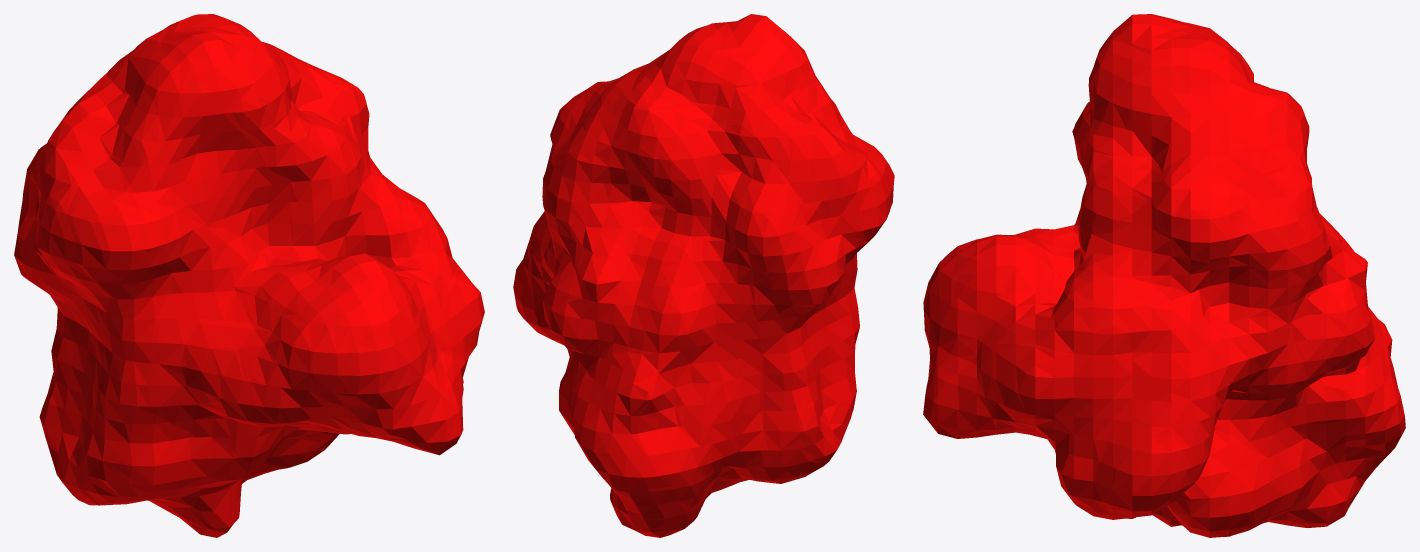
File: glpA_coarse.dae
3 renders of one model, left to right at view 1: azimuth 30°, elevation 25°; view 2: azimuth 150°, elevation 25°; view 3: azimuth 270°, elevation 25°, orthographic. The views are drawn at different scales.
Visible parts, largest first — view 1: glpA; view 2: glpA; view 3: glpA.
Boxes of the visible parts, x1,y1,x2,y2 form: glpA: [14, 14, 484, 537]; glpA: [513, 14, 894, 537]; glpA: [923, 14, 1405, 537].
Size of the model in its own units: 63.91 by 76.68 by 67.56.
